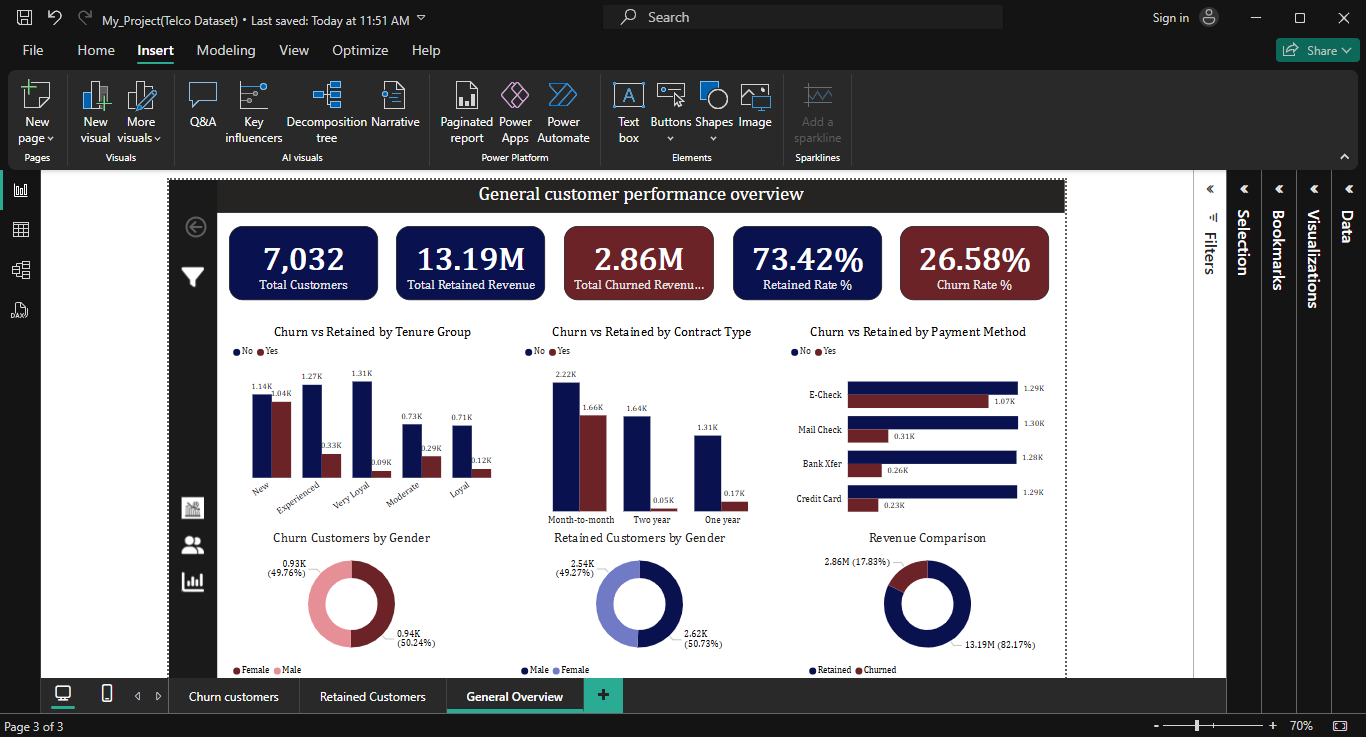

Layout of this report page (visuals, bound fields, positions):
{"tool":"powerbi","page":{"name":"General Overview","canvas":[1280,720],"ordinal":2},"visuals":[{"type":"card","title":"Overall Charges","fields":{"Values":["Measure.Churn Rate %"]},"box":[1044.3,65.7,212.9,105.7],"z":0},{"type":"actionButton","box":[0,448.6,68.6,40],"z":0,"group":"g1"},{"type":"card","title":"Overall Charges","fields":{"Values":["Measure.Total Customers"]},"box":[85.7,65.7,212.9,105.7],"z":1000},{"type":"actionButton","box":[0,501.5,68.6,40],"z":1000,"group":"g1"},{"type":"card","title":"Overall Charges","fields":{"Values":["Measure.Total Retained Revenue"]},"box":[325,65.7,212.9,105.7],"z":2000},{"type":"actionButton","box":[0,554.3,68.6,40],"z":2000,"group":"g1"},{"type":"card","title":"Overall Charges","fields":{"Values":["Measure.Total Churned Revenue loss"]},"box":[564.3,65.7,214.3,105.7],"z":3000},{"type":"card","title":"Overall Charges","fields":{"Values":["Measure.Retained Rate %"]},"box":[805,65.7,212.9,105.7],"z":4000},{"type":"textbox","box":[68.6,0,1211.4,47.1],"z":5000},{"type":"shape","box":[0,0,68.9,720.6],"z":6000},{"type":"group","id":"g1","title":"Page Navigation","box":[0,448.6,68.6,145.7],"z":7000},{"type":"clusteredColumnChart","title":"Churn vs Retained by Tenure Group","fields":{"Category":["Telco-Customer-Churn.Tenure Group"],"Y":["CountNonNull(Telco-Customer-Churn.customerID)"],"Series":["Telco-Customer-Churn.Churn"]},"box":[86.4,207.4,410.4,293.8],"z":8000},{"type":"clusteredColumnChart","title":"Churn vs Retained  by Contract Type","fields":{"Category":["Telco-Customer-Churn.Contract"],"Y":["CountNonNull(Telco-Customer-Churn.customerID)"],"Series":["Telco-Customer-Churn.Churn"]},"box":[502.6,207.4,374.4,293.8],"z":9000},{"type":"donutChart","title":"Churn Customers by Gender","fields":{"Category":["Telco-Customer-Churn.gender"],"Y":["Measure.Total Churned Customers"]},"box":[86.4,501.1,350,218.9],"z":10000},{"type":"donutChart","title":" Retained Customers by Gender","fields":{"Category":["Telco-Customer-Churn.gender"],"Y":["Measure.Retained Customers"]},"box":[497.5,501.1,350,218.9],"z":11000},{"type":"donutChart","title":"Revenue Comparison","fields":{"Category":["Telco-Customer-Churn.CustomerStatus"],"Y":["Measure.Total Charges"]},"box":[908.6,501.1,350,218.9],"z":12000},{"type":"clusteredBarChart","title":"Churn vs Retained  by Payment Method","fields":{"Category":["Telco-Customer-Churn.AbbreviatedPayment"],"Y":["CountNonNull(Telco-Customer-Churn.customerID)"],"Series":["Telco-Customer-Churn.Churn"]},"box":[882.7,207.4,374.4,293.8],"z":13000},{"type":"actionButton","box":[18.7,47.5,50.4,40.3],"z":14000},{"type":"actionButton","box":[0,118.1,69.1,40.3],"z":15000}]}

Visuals, with their boxes on the page's 1280x720 design canvas (x1, y1, x2, y2). These are canvas units, not pixel positions in the 1366x737 screenshot, which may show the page scaled, cropped or inside an application window:
"Overall Charges" card: BBox(1044, 66, 1257, 171)
actionButton: BBox(0, 449, 69, 489)
"Overall Charges" card: BBox(86, 66, 299, 171)
actionButton: BBox(0, 502, 69, 542)
"Overall Charges" card: BBox(325, 66, 538, 171)
actionButton: BBox(0, 554, 69, 594)
"Overall Charges" card: BBox(564, 66, 779, 171)
"Overall Charges" card: BBox(805, 66, 1018, 171)
textbox: BBox(69, 0, 1280, 47)
shape: BBox(0, 0, 69, 721)
"Page Navigation" group: BBox(0, 449, 69, 594)
"Churn vs Retained by Tenure Group" clusteredColumnChart: BBox(86, 207, 497, 501)
"Churn vs Retained  by Contract Type" clusteredColumnChart: BBox(503, 207, 877, 501)
"Churn Customers by Gender" donutChart: BBox(86, 501, 436, 720)
" Retained Customers by Gender" donutChart: BBox(498, 501, 848, 720)
"Revenue Comparison" donutChart: BBox(909, 501, 1259, 720)
"Churn vs Retained  by Payment Method" clusteredBarChart: BBox(883, 207, 1257, 501)
actionButton: BBox(19, 48, 69, 88)
actionButton: BBox(0, 118, 69, 158)
